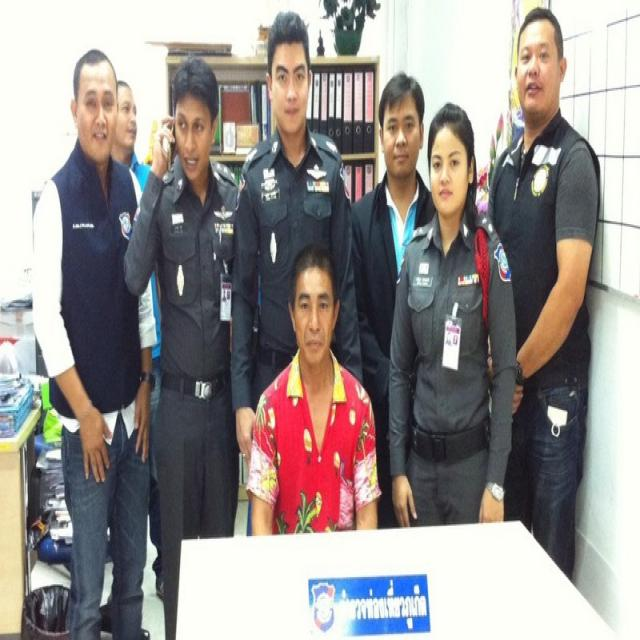body: (28, 47, 158, 640), (121, 52, 245, 640), (484, 1, 600, 582), (226, 9, 366, 473), (238, 237, 388, 639), (386, 98, 518, 532), (349, 68, 439, 530), (110, 76, 168, 601)
